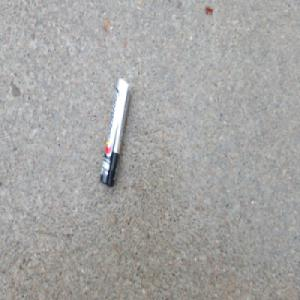Battery: (99, 77, 131, 188)
